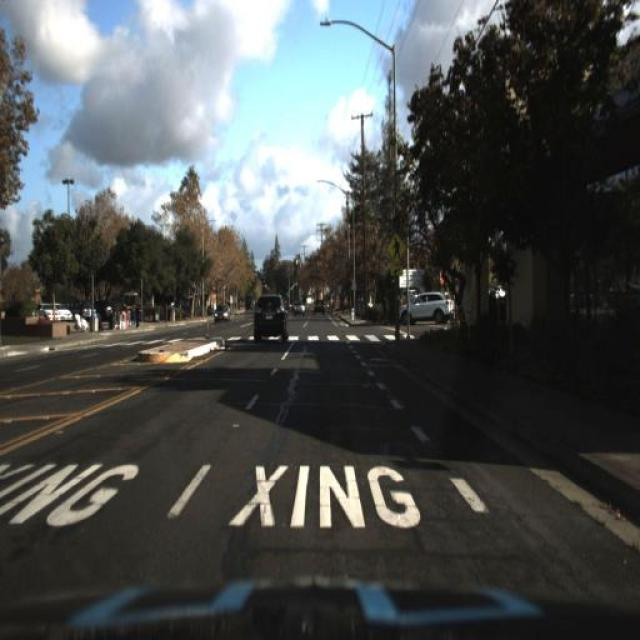car: (246, 275, 298, 347), (396, 287, 452, 327), (251, 292, 289, 344), (28, 294, 62, 324), (51, 298, 77, 323), (311, 293, 330, 318), (214, 305, 231, 329), (291, 297, 308, 317)
trafficLight: (388, 294, 401, 330), (130, 297, 142, 335)
